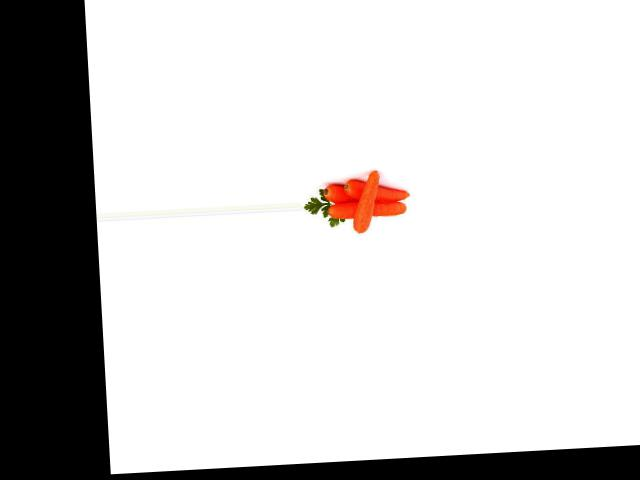carrot: (323, 178, 397, 208)
